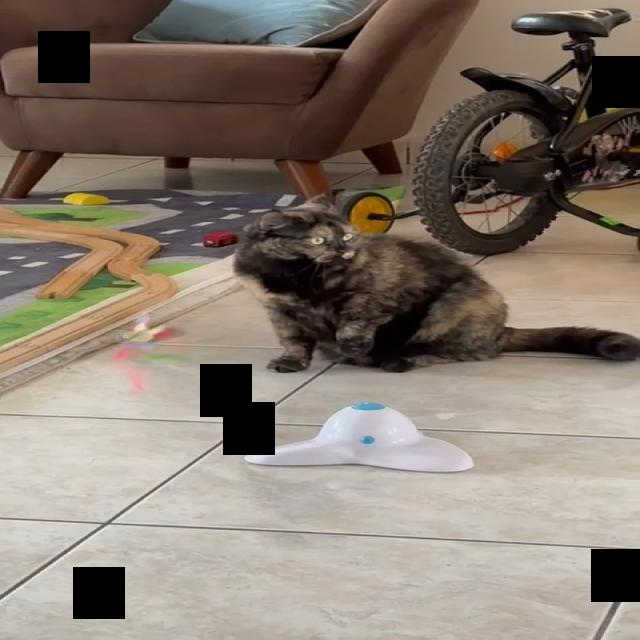authorized: (231, 192, 638, 374)
